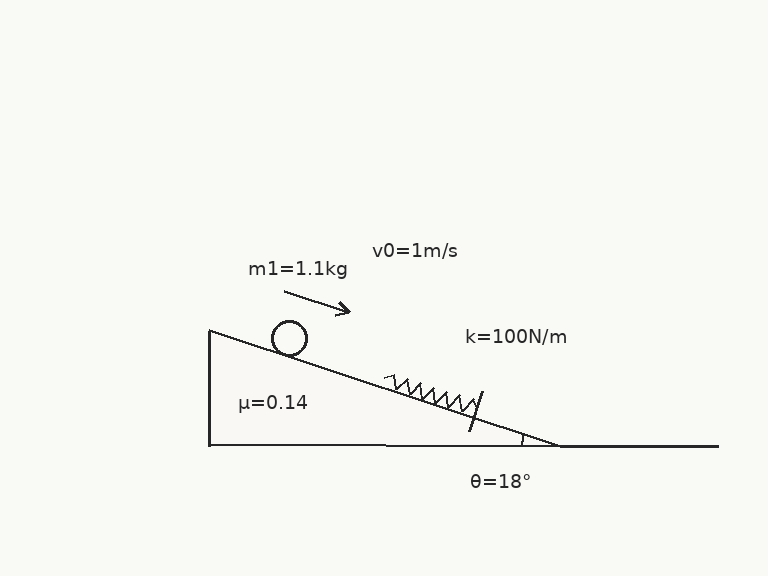ball: (269, 318, 309, 358)
ramp: (207, 329, 564, 448)
spring: (383, 372, 479, 413)
